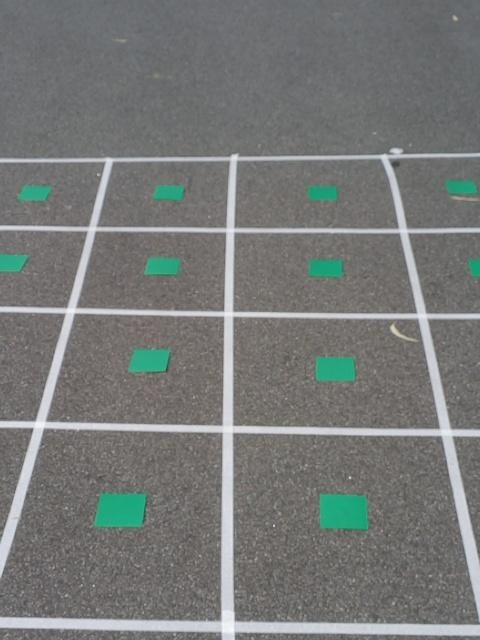weed: (317, 492, 373, 532), (90, 492, 149, 528), (314, 354, 360, 383), (129, 346, 173, 376), (144, 256, 183, 278), (303, 260, 349, 278), (13, 184, 56, 202), (0, 252, 33, 273), (442, 179, 480, 197), (152, 184, 189, 202), (307, 182, 340, 201), (467, 254, 480, 280)
